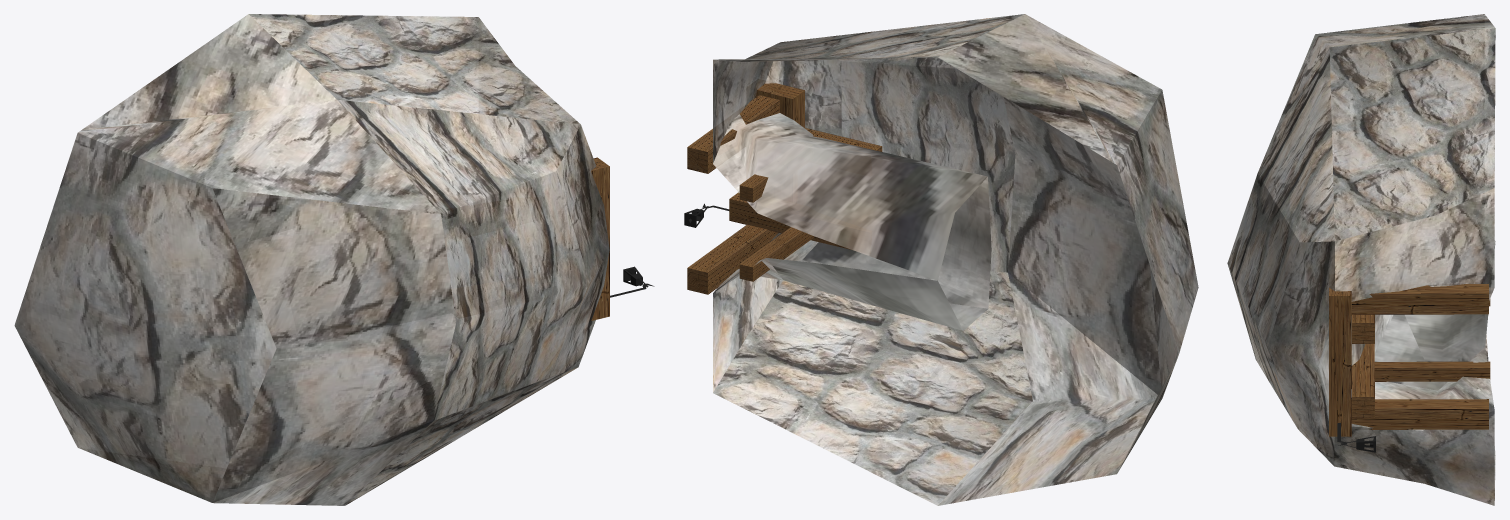
Rendered from mine.obj.
3 renders of one model, left to right at view 1: azimuth 30°, elevation 25°; view 2: azimuth 150°, elevation 25°; view 3: azimuth 270°, elevation 25°, orthographic. The views are drawn at different scales.
Visible parts, largest first — view 1: Cube.021, Cube.020, Cube.011, Cube.012; view 2: Cube.021, Cube.011, Cube.020, Cube.014, Cube.013, Cube.017, Cube.015, Cube.012, Cube.018; view 3: Cube.020, Cube.021, Cube.011, Cube.014, Cube.013, Cube.012, Cube.017, Cube.015, Cube.016.
Boxes of the visible parts, x1,y1,x2,y2 form: Cube.021: [14, 125, 609, 502]; Cube.020: [78, 14, 580, 214]; Cube.011: [213, 367, 577, 505]; Cube.012: [591, 157, 609, 320]; Cube.021: [713, 59, 1198, 471]; Cube.011: [713, 271, 1157, 505]; Cube.020: [713, 14, 1161, 164]; Cube.014: [687, 224, 778, 294]; Cube.013: [687, 95, 779, 173]; Cube.017: [739, 227, 813, 281]; Cube.015: [729, 192, 851, 249]; Cube.012: [755, 83, 804, 127]; Cube.018: [739, 174, 768, 202]; Cube.020: [1257, 14, 1495, 301]; Cube.021: [1227, 173, 1495, 465]; Cube.011: [1334, 335, 1495, 505]; Cube.014: [1351, 399, 1488, 429]; Cube.013: [1351, 284, 1488, 314]; Cube.012: [1329, 287, 1351, 436]; Cube.017: [1374, 361, 1490, 381]; Cube.015: [1351, 344, 1374, 417]; Cube.016: [1351, 314, 1374, 343].
Bounding box in the file's own units: 9.07 × 7.05 × 4.
